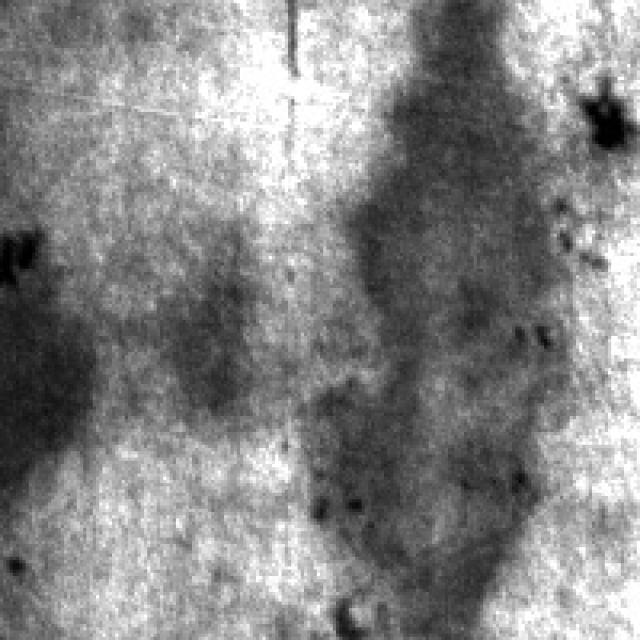inclusion: (576, 64, 640, 157)
patches: (327, 0, 576, 630), (3, 215, 138, 502), (3, 215, 138, 502), (150, 202, 294, 444)
